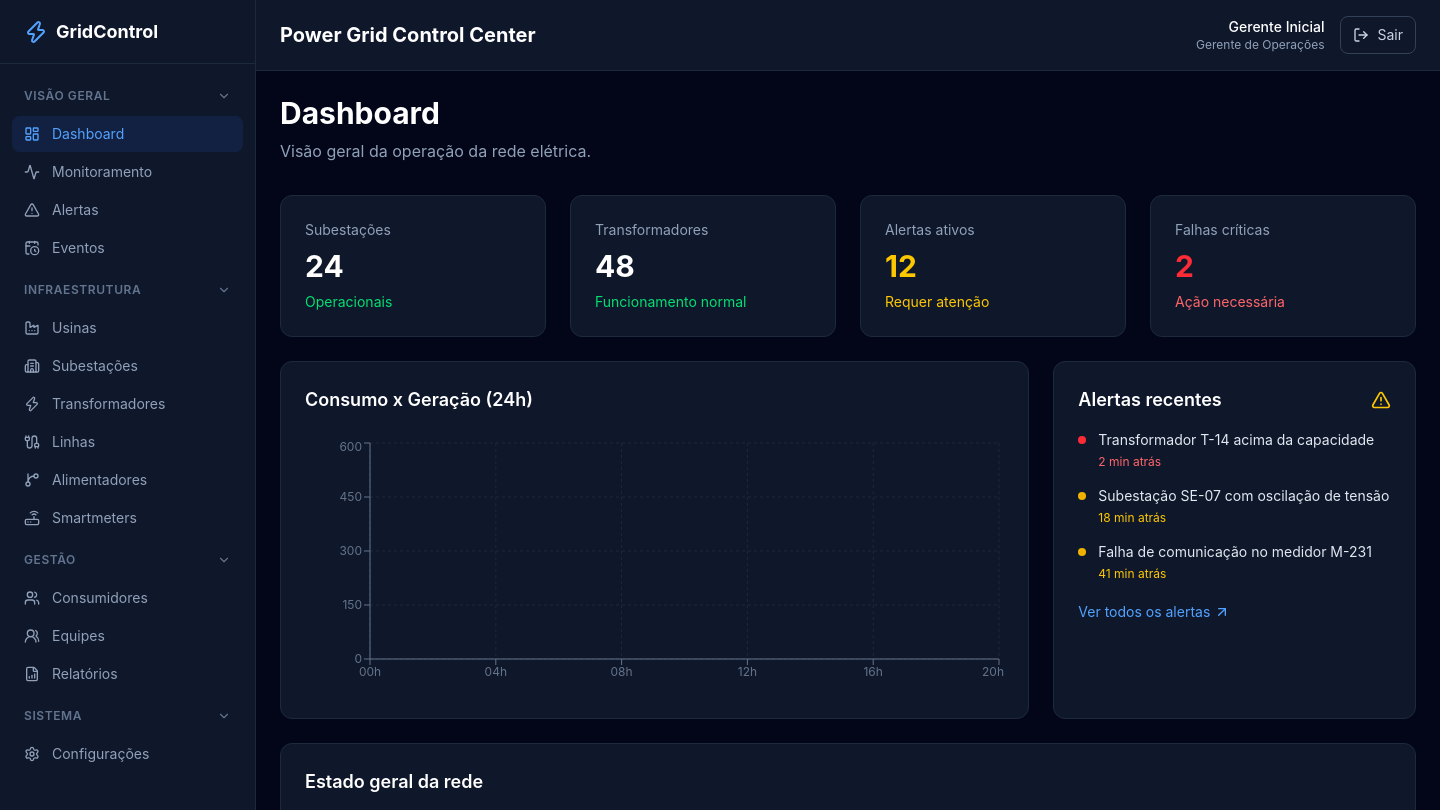
US25 › permanece autenticado e avisa quando o logout falha
This screenshot has width=1440, height=810.
Step 1. Click the button "Sair" → {"x": 1378, "y": 35}, box [1340,16,1416,54]
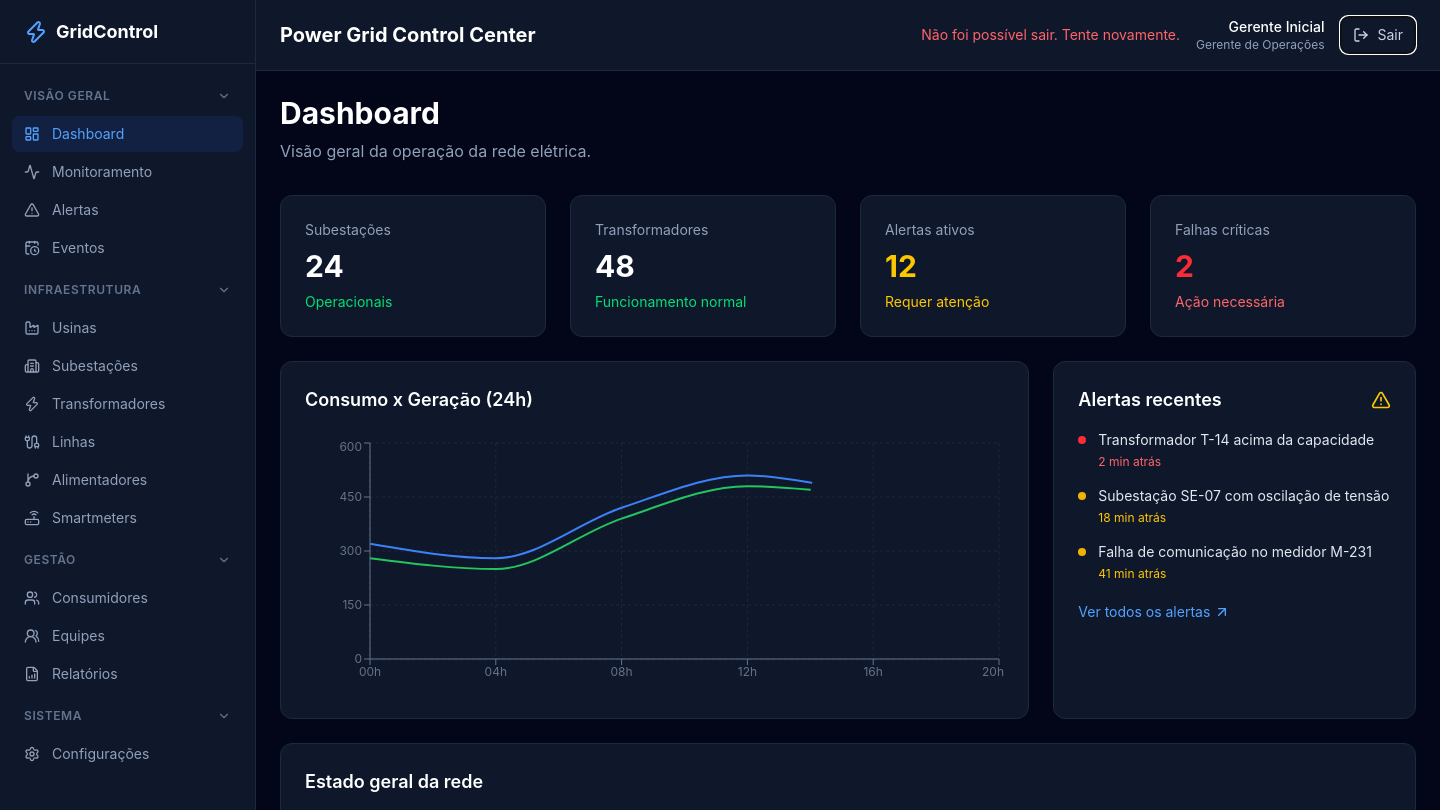
Now the text "Não foi possível sair. Tente novamente." is shown, box [921,25,1180,45]
